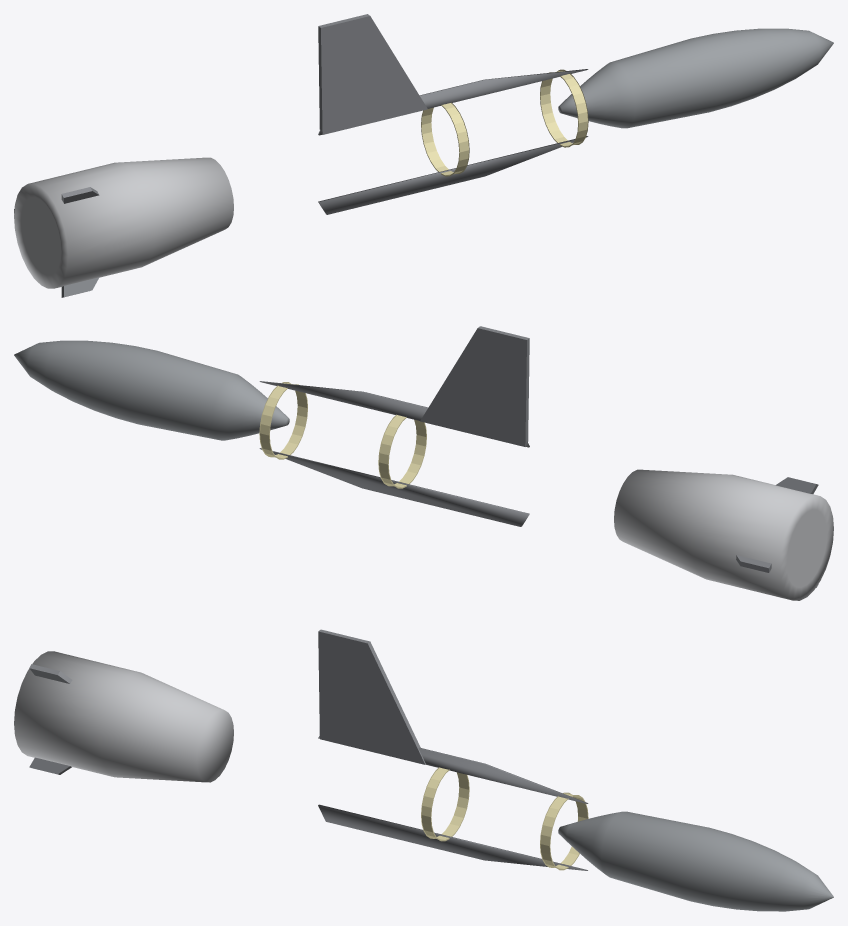
The model's file is US_ASM_Tomahawk_TASM_LOD1.fbx.
The picture shows the model from 3 angles, top to bottom: view 1: azimuth 30°, elevation 25°; view 2: azimuth 150°, elevation 25°; view 3: azimuth 330°, elevation 25°; orthographic projection.
Visible parts, largest first — view 1: WPN_US_ASM_Tomahawk_TASM_LOD1_Tail, WPN_US_ASM_Tomahawk_TASM_LOD1_Body, WPN_US_ASM_Tomahawk_TASM_LOD1_Wings, WPN_US_ASM_Tomahawk_TASM_LOD1_Detail, WPN_US_ASM_Tomahawk_TASM_LOD1_Marking, WPN_US_ASM_Tomahawk_TASM_LOD1_Fins; view 2: WPN_US_ASM_Tomahawk_TASM_LOD1_Tail, WPN_US_ASM_Tomahawk_TASM_LOD1_Body, WPN_US_ASM_Tomahawk_TASM_LOD1_Wings, WPN_US_ASM_Tomahawk_TASM_LOD1_Detail, WPN_US_ASM_Tomahawk_TASM_LOD1_Marking, WPN_US_ASM_Tomahawk_TASM_LOD1_Fins; view 3: WPN_US_ASM_Tomahawk_TASM_LOD1_Tail, WPN_US_ASM_Tomahawk_TASM_LOD1_Body, WPN_US_ASM_Tomahawk_TASM_LOD1_Wings, WPN_US_ASM_Tomahawk_TASM_LOD1_Detail, WPN_US_ASM_Tomahawk_TASM_LOD1_Marking, WPN_US_ASM_Tomahawk_TASM_LOD1_Fins.
Part boxes in pixels (x1,y1,x2,y2): WPN_US_ASM_Tomahawk_TASM_LOD1_Tail: (14,157,233,288); WPN_US_ASM_Tomahawk_TASM_LOD1_Body: (558,28,833,128); WPN_US_ASM_Tomahawk_TASM_LOD1_Wings: (318,14,427,134); WPN_US_ASM_Tomahawk_TASM_LOD1_Detail: (318,69,588,214); WPN_US_ASM_Tomahawk_TASM_LOD1_Marking: (421,69,588,176); WPN_US_ASM_Tomahawk_TASM_LOD1_Fins: (14,187,99,297); WPN_US_ASM_Tomahawk_TASM_LOD1_Tail: (614,469,833,600); WPN_US_ASM_Tomahawk_TASM_LOD1_Body: (14,340,289,440); WPN_US_ASM_Tomahawk_TASM_LOD1_Wings: (420,326,529,446); WPN_US_ASM_Tomahawk_TASM_LOD1_Detail: (259,381,529,526); WPN_US_ASM_Tomahawk_TASM_LOD1_Marking: (259,382,426,488); WPN_US_ASM_Tomahawk_TASM_LOD1_Fins: (736,477,818,587); WPN_US_ASM_Tomahawk_TASM_LOD1_Tail: (14,651,233,782); WPN_US_ASM_Tomahawk_TASM_LOD1_Body: (558,811,833,911); WPN_US_ASM_Tomahawk_TASM_LOD1_Wings: (318,629,425,764); WPN_US_ASM_Tomahawk_TASM_LOD1_Detail: (318,736,588,870); WPN_US_ASM_Tomahawk_TASM_LOD1_Marking: (421,767,588,870); WPN_US_ASM_Tomahawk_TASM_LOD1_Fins: (29,664,72,774).
Bounding box in the file's own units: 6.25 × 0.8112 × 1.46.
